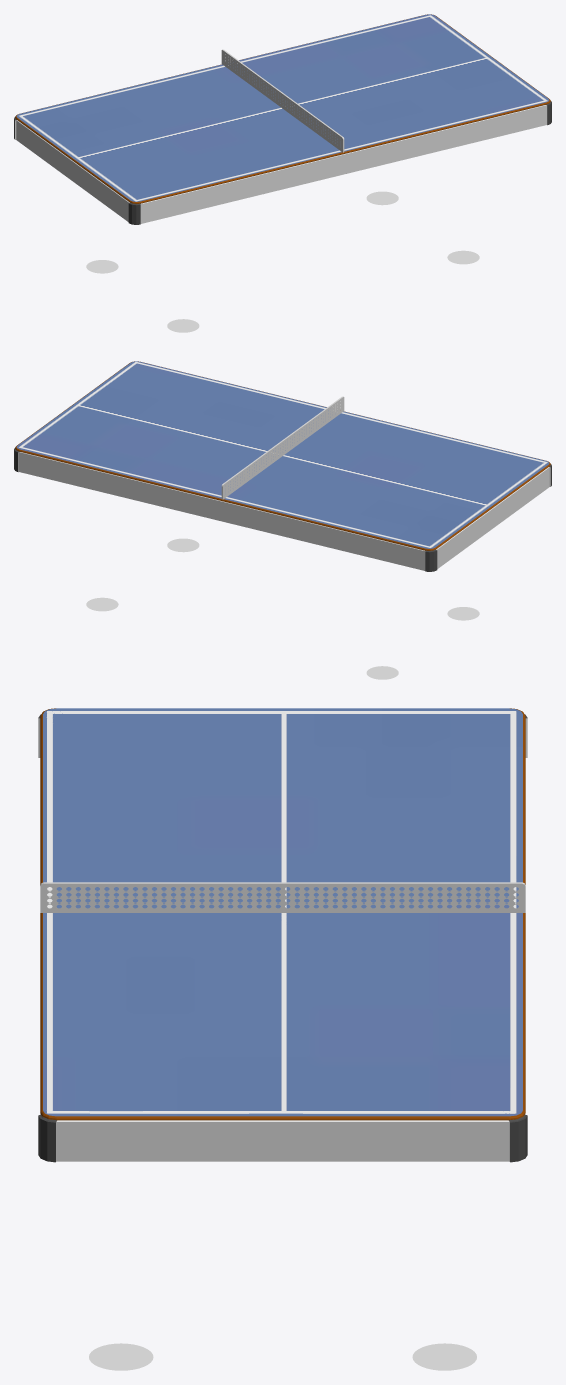
Rendered from tabletennis_high_test.fbx.
The picture shows the model from 3 angles, top to bottom: view 1: azimuth 30°, elevation 25°; view 2: azimuth 150°, elevation 25°; view 3: azimuth 270°, elevation 25°; orthographic projection. The views are drawn at different scales.
Visible parts, largest first — view 1: Cube, Cube.002; view 2: Cube, Cube.002; view 3: Cube, Cube.002, Circle.001, Circle.002.
Part boxes in pixels (left/top/right/bottom): Cube: left=14, top=14, right=551, bottom=224; Cube.002: left=221, top=49, right=344, bottom=152; Cube: left=14, top=361, right=551, bottom=571; Cube.002: left=221, top=396, right=344, bottom=499; Cube: left=38, top=708, right=527, bottom=1162; Cube.002: left=40, top=882, right=525, bottom=912; Circle.001: left=412, top=1343, right=476, bottom=1370; Circle.002: left=89, top=1343, right=153, bottom=1370.
Bounding box in the file's own units: 603 × 230 × 303.
Materials: 4 (1 with a texture image).
